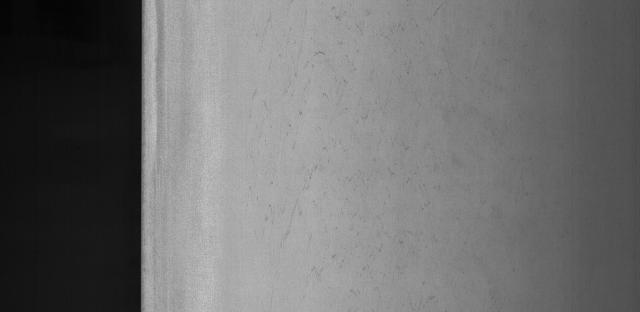silk_spot: (238, 0, 438, 253)
